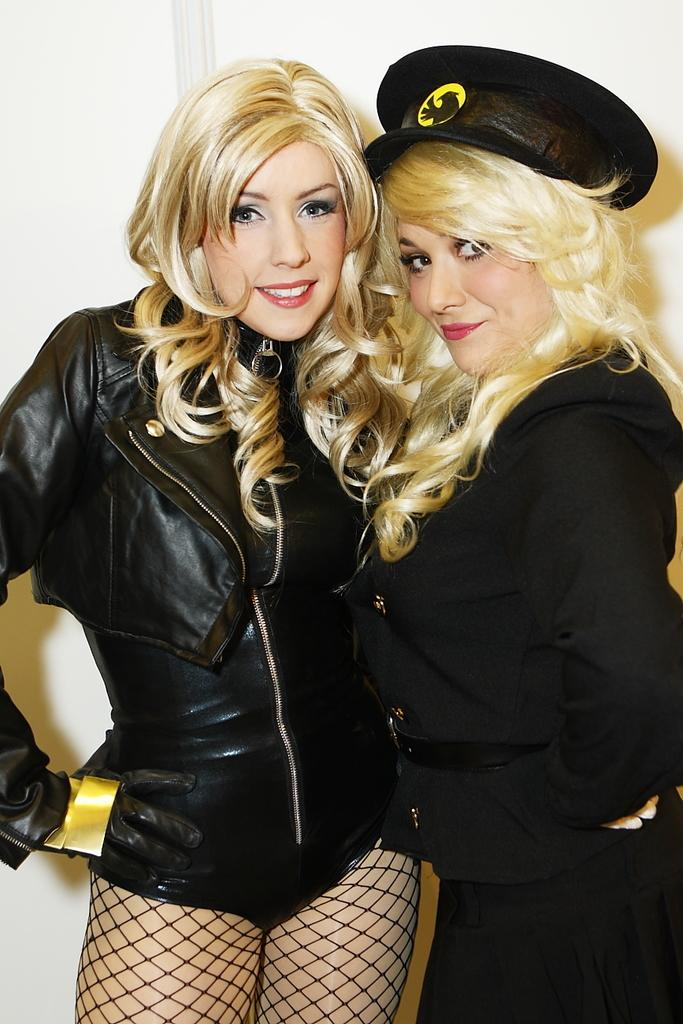Hat: (364, 44, 660, 210)
